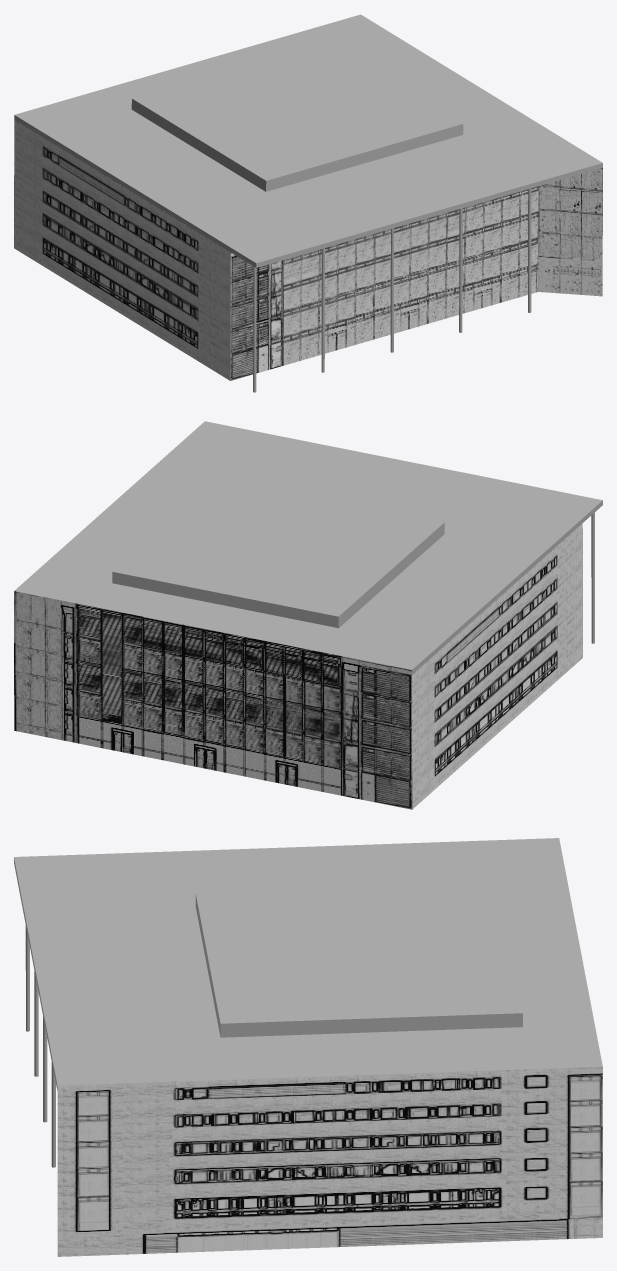
File: hoersaalzentrum.gltf
3 views of the same model, one above another, from view 1: azimuth 30°, elevation 25°; view 2: azimuth 150°, elevation 25°; view 3: azimuth 270°, elevation 25° (orthographic). The views are drawn at different scales.
Parts seen in each view (by area): view 1: Dach.1; view 2: Dach.1; view 3: Dach.1.
Boxes of the visible parts, bbox=[...] form: Dach.1: bbox=[14, 14, 602, 392]; Dach.1: bbox=[14, 421, 602, 809]; Dach.1: bbox=[14, 838, 602, 1256].
Bounding box in the file's own units: 65.59 × 23.13 × 66.21.
Materials: 7 (6 with a texture image).
